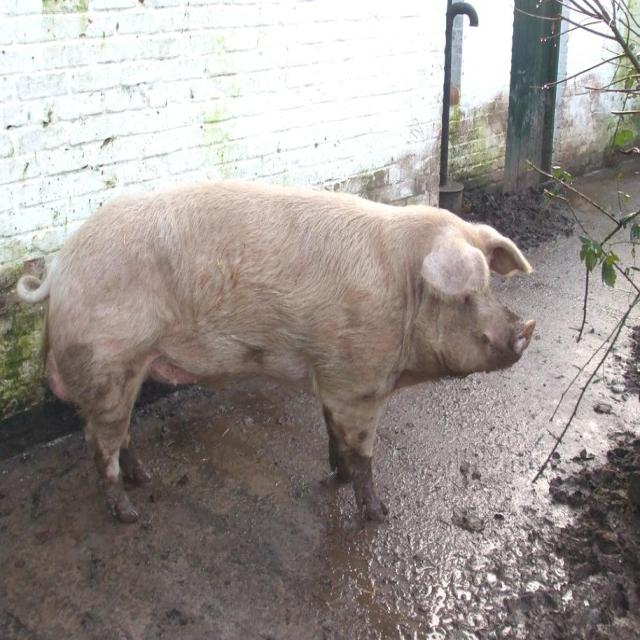pig: (18, 182, 535, 522)
